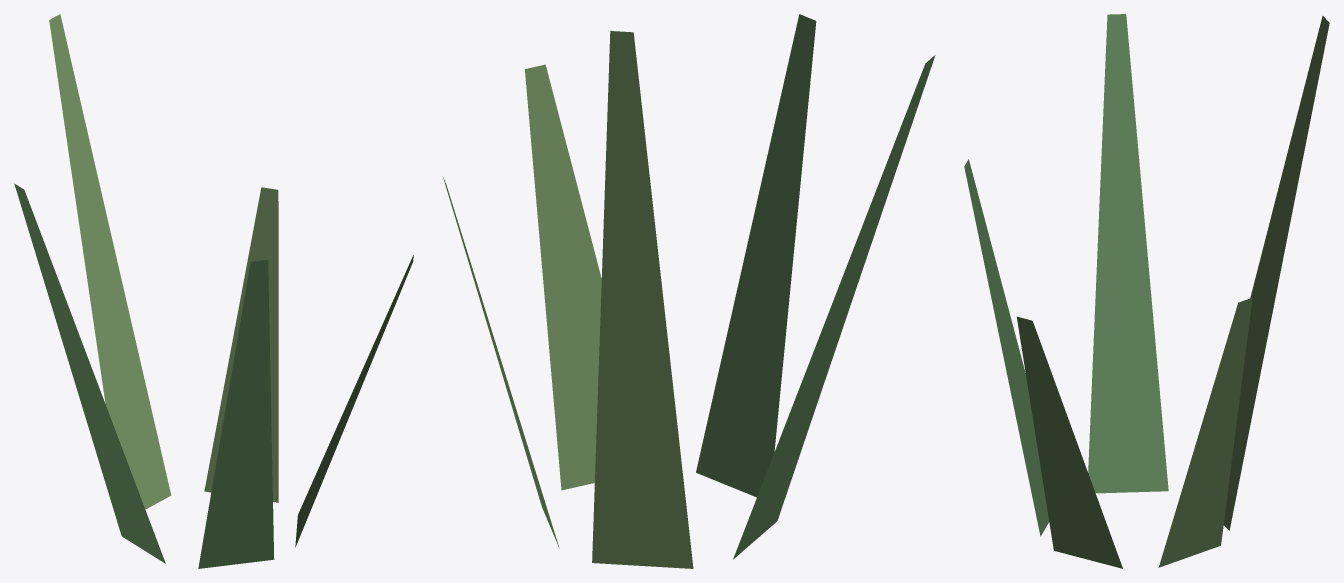
The model's file is SM_Kit_grama.fbx.
The picture shows the model from 3 angles, left to right: view 1: azimuth 30°, elevation 25°; view 2: azimuth 150°, elevation 25°; view 3: azimuth 270°, elevation 25°; orthographic projection. The views are drawn at different scales.
Parts seen in each view (by area): view 1: SM_Kit_grama; view 2: SM_Kit_grama; view 3: SM_Kit_grama.
Boxes of the visible parts, box(x1,y1,x2,y2) form: SM_Kit_grama: box(14, 14, 413, 568); SM_Kit_grama: box(442, 14, 935, 568); SM_Kit_grama: box(964, 14, 1329, 568).
Size of what is drawn, in the model's own units: 26.93 by 33.5 by 23.28.
